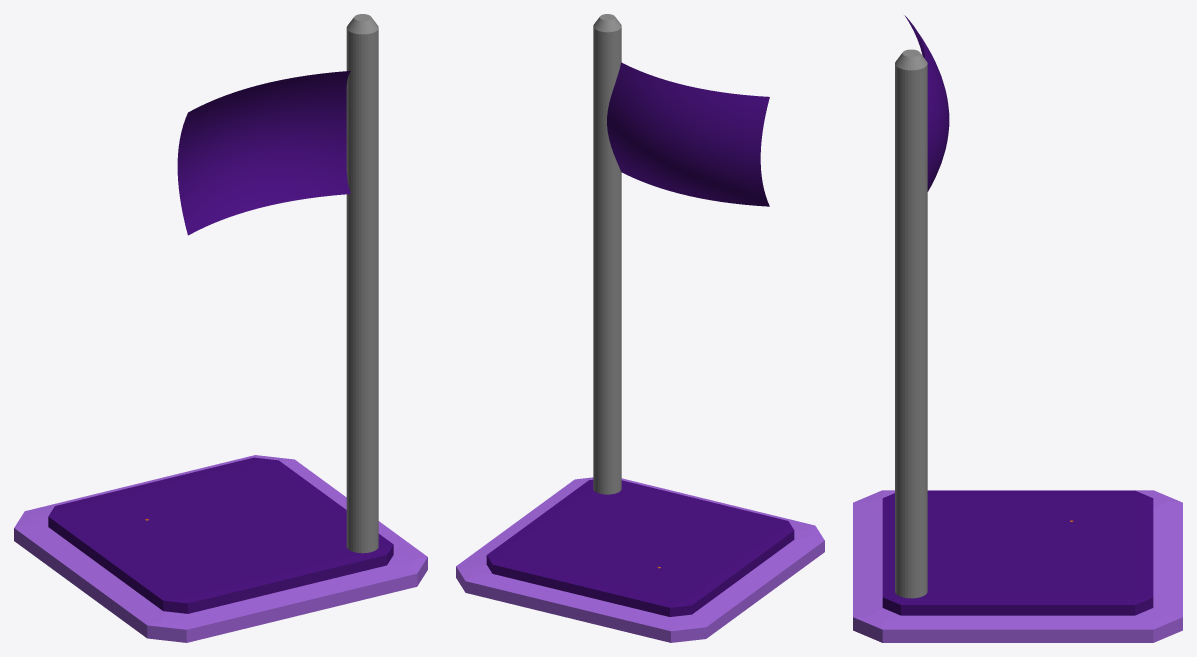
Rendered from checkpoint 1.fbx.
3 renders of one model, left to right at view 1: azimuth 30°, elevation 25°; view 2: azimuth 150°, elevation 25°; view 3: azimuth 270°, elevation 25°, orthographic. The views are drawn at different scales.
Parts seen in each view (by area): view 1: Cube.001; view 2: Cube.001; view 3: Cube.001.
Boxes of the visible parts, <box> form: Cube.001: <box>14,14,427,642</box>; Cube.001: <box>456,14,824,642</box>; Cube.001: <box>853,15,1182,642</box>.
Bounding box in the file's own units: 116 × 220 × 116.
Materials: 2 (2 with a texture image).
